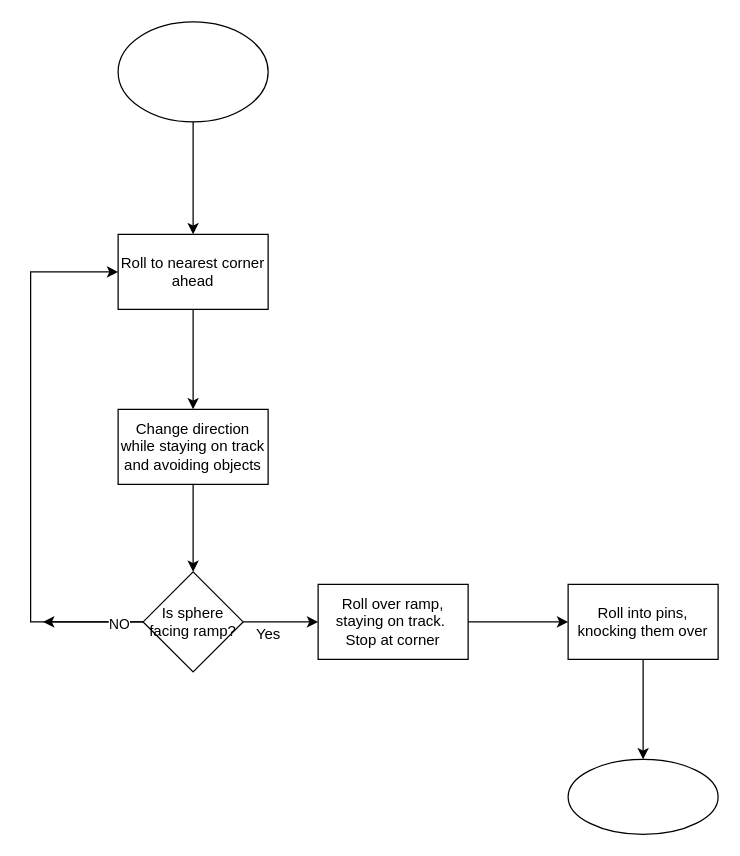
Image size: 740x856. Some labels were removed from this diagram. Here are the shapes that lost their labels. From the top down, the centre of each, then its label:
At point 192,71: "Start".
At point 642,796: "End".
